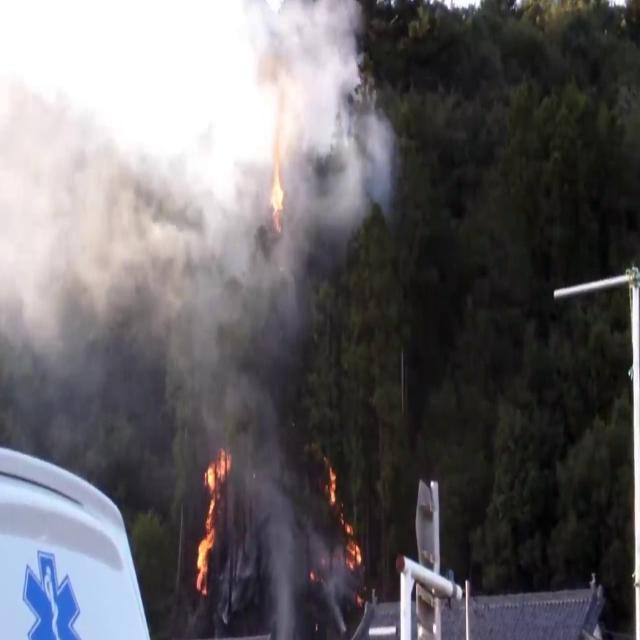Fire: (192, 442, 232, 597), (324, 466, 368, 574), (266, 143, 288, 230)
Smoke: (9, 0, 403, 445), (228, 384, 309, 638)
